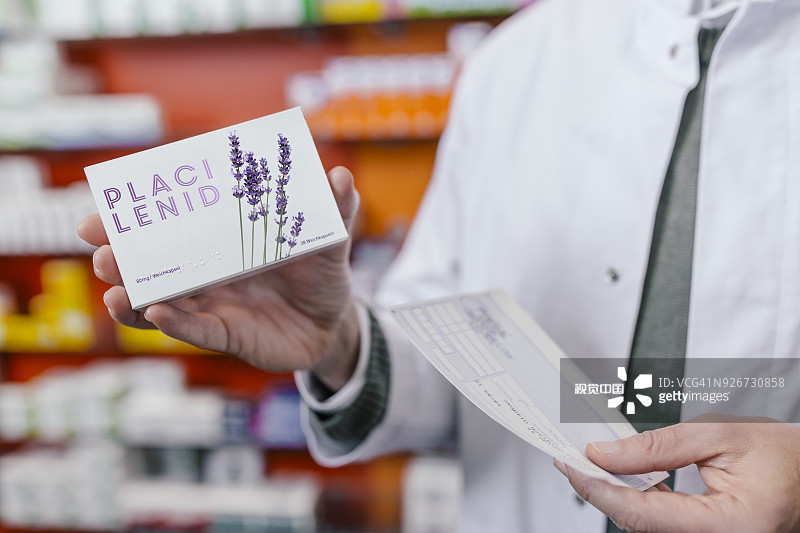no-phone: (57, 149, 381, 390), (539, 402, 800, 533)
